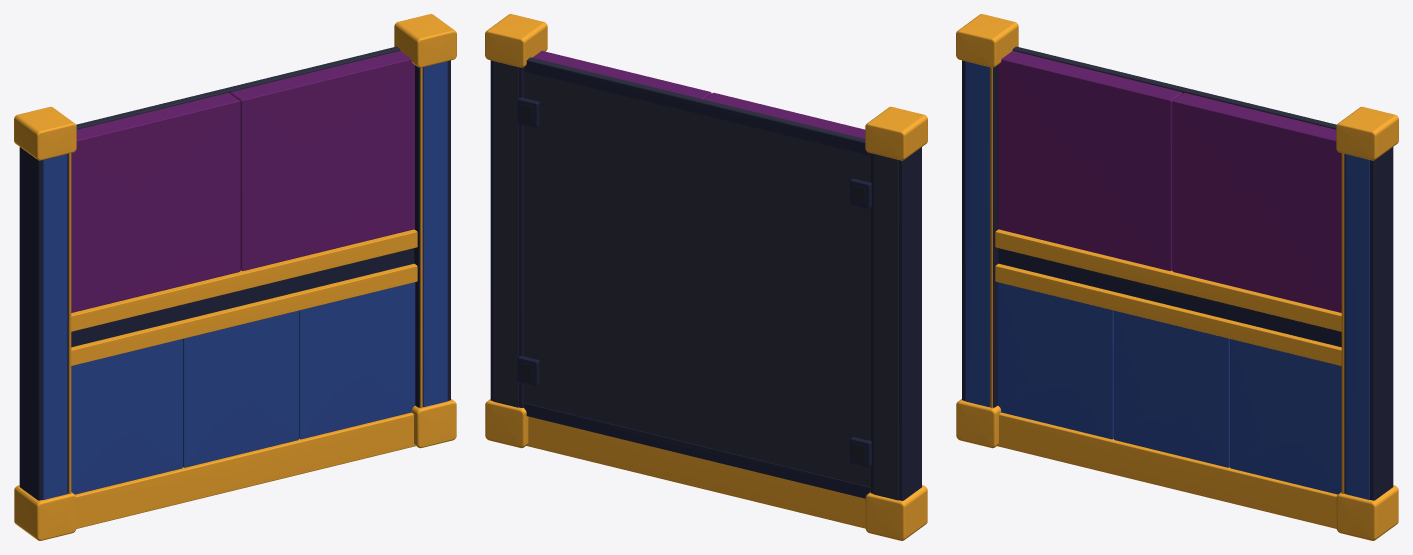
Rendered from StudioWallPanel.glb.
3 renders of one model, left to right at view 1: azimuth 30°, elevation 25°; view 2: azimuth 150°, elevation 25°; view 3: azimuth 330°, elevation 25°, orthographic.
Parts seen in each view (by area): view 1: UpperPurplePanel_2, UpperPurplePanel_1, LowerBluePanel_2, LowerBluePanel_3, LowerBluePanel_1, GoldBasePlinth, LeftNavyPost, RightBluePostFace, LeftBluePostFace, UpperGoldMidTrim, LowerGoldMidTrim, CentralDarkBand (+8 smaller); view 2: RearStructuralPanel, GoldBasePlinth, LeftRearPostStrip, RightRearPostStrip, LeftNavyPost, RearBottomRail, RearTopRail, RightNavyPost, LeftGoldPostCrown, RightGoldPostCrown, LeftGoldPostFoot, RightGoldPostFoot (+2 smaller); view 3: UpperPurplePanel_1, UpperPurplePanel_2, LowerBluePanel_2, LowerBluePanel_1, LowerBluePanel_3, GoldBasePlinth, RightNavyPost, LeftBluePostFace, RightBluePostFace, UpperGoldMidTrim, LowerGoldMidTrim, CentralDarkBand (+8 smaller).
Boxes of the visible parts, bbox=[...] form: UpperPurplePanel_2: bbox=[230, 51, 414, 270]; UpperPurplePanel_1: bbox=[71, 92, 240, 312]; LowerBluePanel_2: bbox=[183, 310, 299, 467]; LowerBluePanel_3: bbox=[299, 282, 415, 439]; LowerBluePanel_1: bbox=[71, 339, 182, 494]; GoldBasePlinth: bbox=[75, 412, 415, 528]; LeftNavyPost: bbox=[19, 147, 68, 500]; RightBluePostFace: bbox=[423, 61, 447, 407]; LeftBluePostFace: bbox=[43, 154, 67, 499]; UpperGoldMidTrim: bbox=[71, 229, 417, 331]; LowerGoldMidTrim: bbox=[71, 263, 417, 365]; CentralDarkBand: bbox=[71, 248, 414, 347]; RearStructuralPanel: bbox=[523, 57, 870, 492]; GoldBasePlinth: bbox=[526, 416, 865, 528]; LeftRearPostStrip: bbox=[873, 154, 898, 500]; RightRearPostStrip: bbox=[493, 61, 518, 407]; LeftNavyPost: bbox=[871, 147, 921, 500]; RearBottomRail: bbox=[524, 403, 870, 498]; RearTopRail: bbox=[524, 60, 870, 155]; RightNavyPost: bbox=[490, 60, 523, 407]; LeftGoldPostCrown: bbox=[865, 106, 927, 160]; RightGoldPostCrown: bbox=[485, 14, 547, 67]; LeftGoldPostFoot: bbox=[865, 485, 927, 540]; RightGoldPostFoot: bbox=[485, 399, 528, 448]; UpperPurplePanel_1: bbox=[998, 51, 1182, 270]; UpperPurplePanel_2: bbox=[1172, 92, 1341, 312]; LowerBluePanel_2: bbox=[1113, 310, 1229, 467]; LowerBluePanel_1: bbox=[997, 282, 1113, 439]; LowerBluePanel_3: bbox=[1230, 339, 1341, 494]; GoldBasePlinth: bbox=[997, 412, 1337, 528]; RightNavyPost: bbox=[1344, 147, 1393, 500]; LeftBluePostFace: bbox=[965, 61, 989, 407]; RightBluePostFace: bbox=[1345, 154, 1369, 499]; UpperGoldMidTrim: bbox=[995, 229, 1341, 331]; LowerGoldMidTrim: bbox=[995, 263, 1341, 365]; CentralDarkBand: bbox=[998, 248, 1341, 347].
Bounding box in the file's own units: 2.41 × 2.25 × 0.254.
7 materials, 7 textured.
